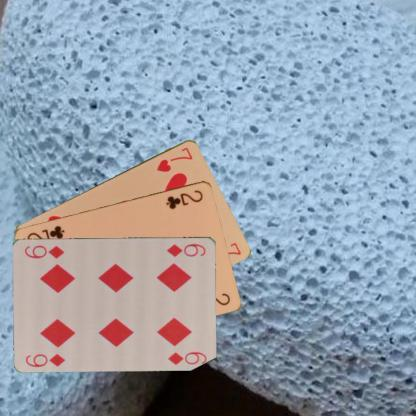2c: (164, 188, 204, 210)
6d: (23, 350, 67, 368), (165, 241, 207, 258)
7h: (154, 144, 194, 173)
